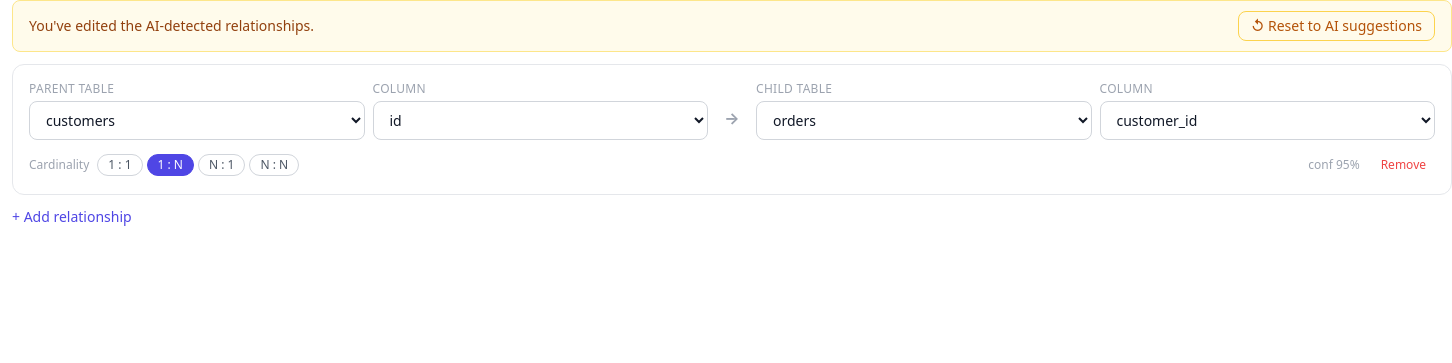
Test case: reset to AI suggestions › reset also closes any open draft form
Note: Open draft form first
Click the button "+ Add relationship" at (72, 217), box [12,207,132,227]
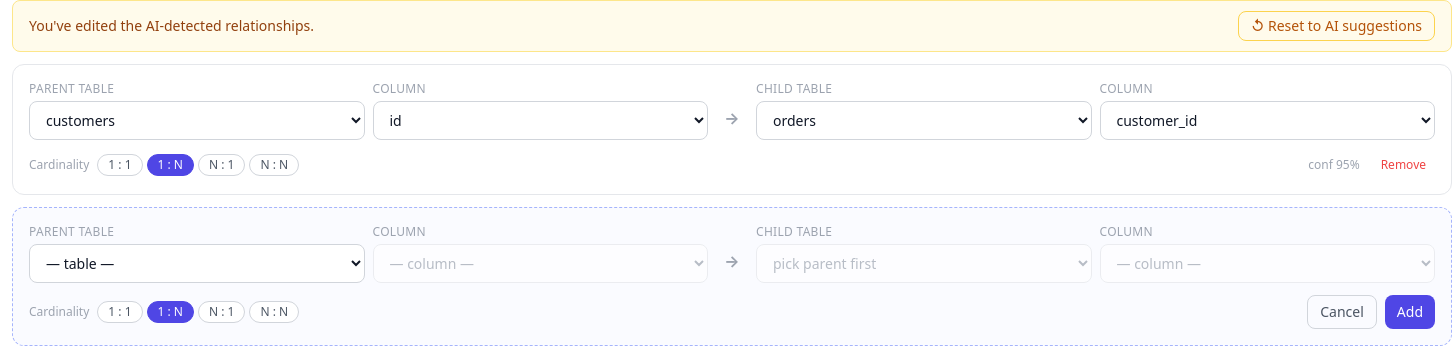
Check: the button "Cancel" is shown, box [1307,295,1377,329]
Note: Reset should close the draft
Click the button "↺ Reset to AI suggestions" at (1336, 26), box [1238,11,1435,41]
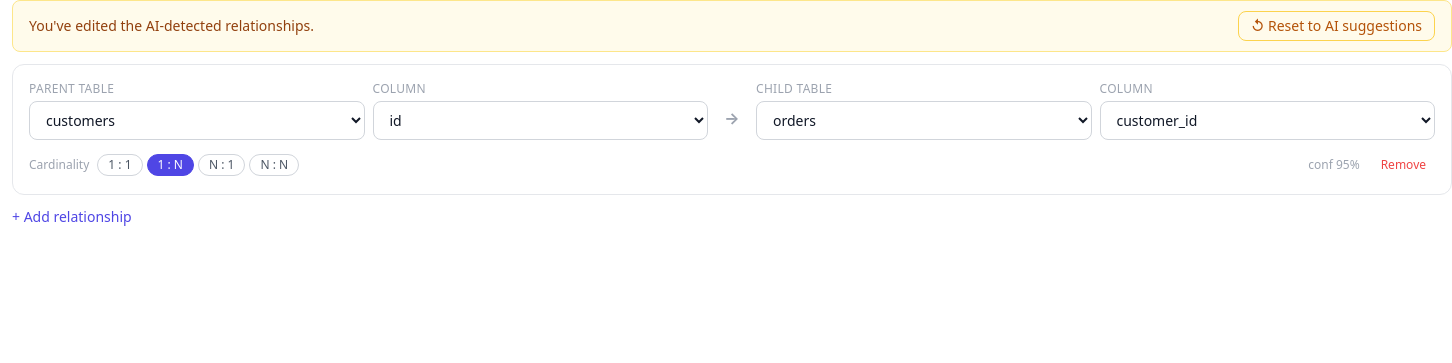
Check: the button "Cancel" is gone
